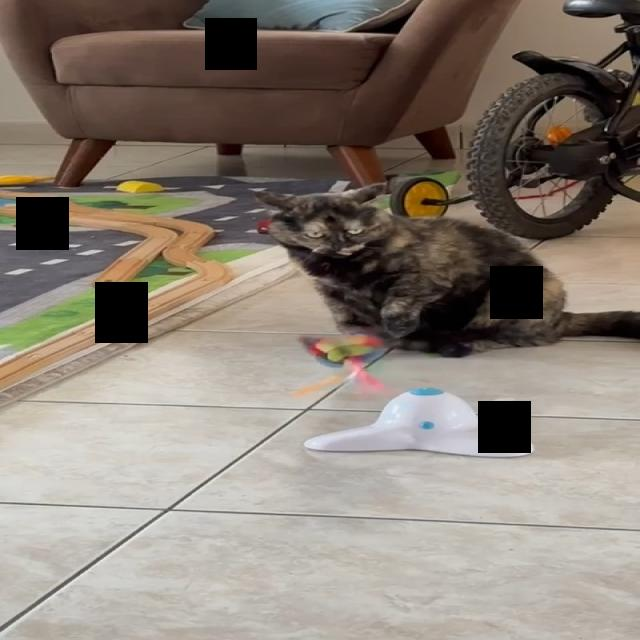authorized: (253, 182, 639, 358)
